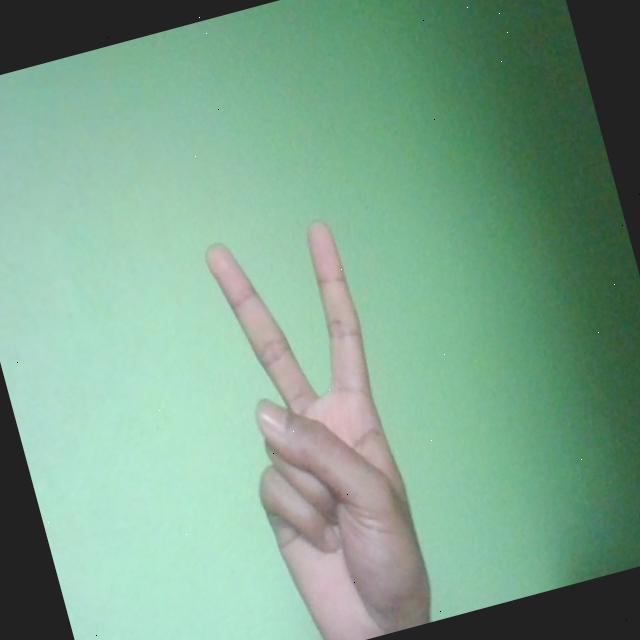Fist: (192, 207, 442, 640)
